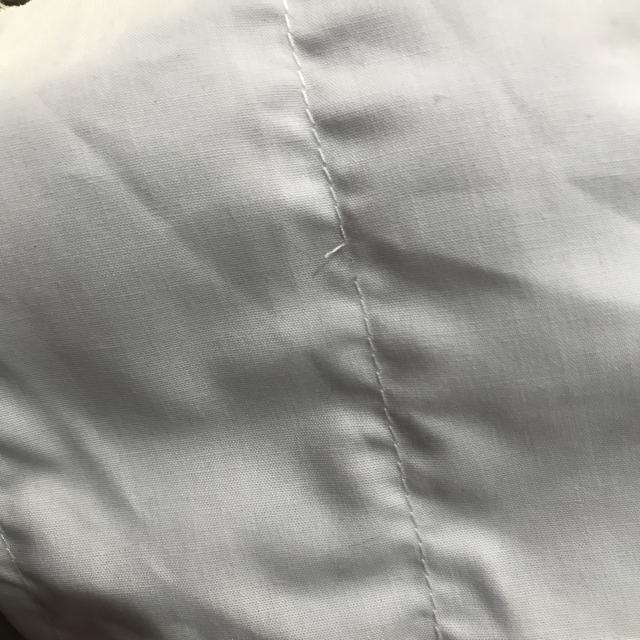broken: (316, 233, 373, 294)
